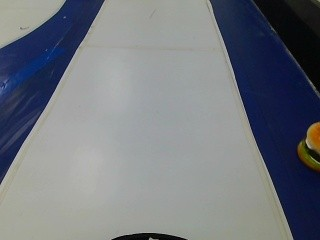burger: (290, 117, 318, 172)
